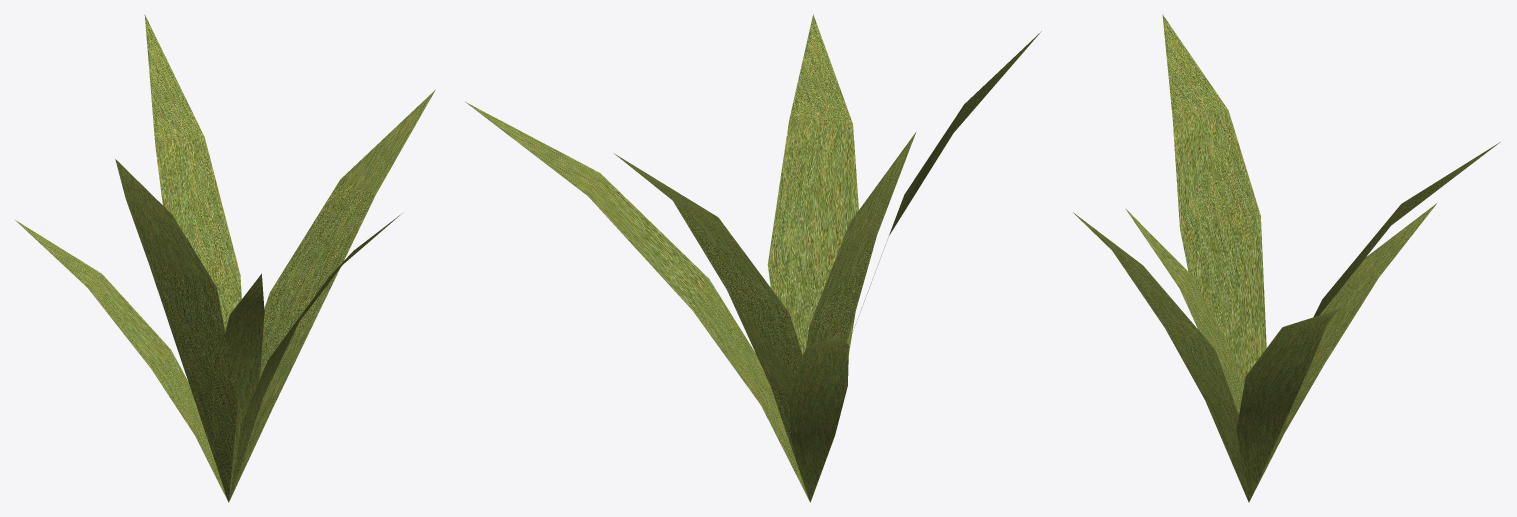
Rendered from grass_is_ass.fbx.
3 views of the same model, side by side, from view 1: azimuth 30°, elevation 25°; view 2: azimuth 150°, elevation 25°; view 3: azimuth 270°, elevation 25° (orthographic). The views are drawn at different scales.
Visible parts, largest first — view 1: Grass; view 2: Grass; view 3: Grass.
Boxes of the visible parts, bbox=[...] form: Grass: bbox=[14, 14, 435, 502]; Grass: bbox=[465, 14, 1041, 502]; Grass: bbox=[1073, 14, 1500, 502].
Bounding box in the file's own units: 26.46 × 25.56 × 24.2.
